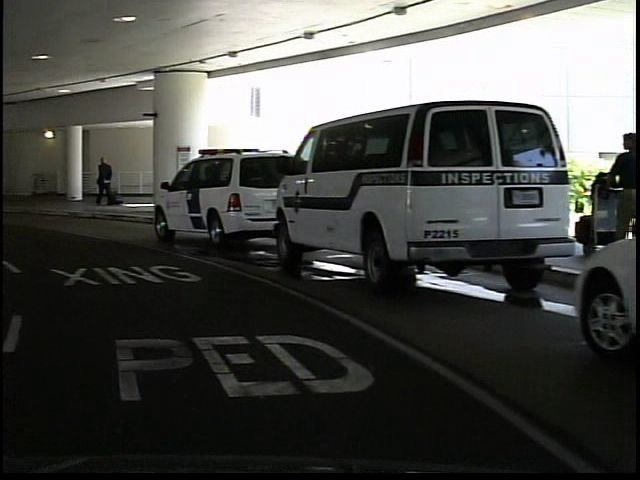person: (599, 128, 637, 266), (91, 152, 115, 211)
